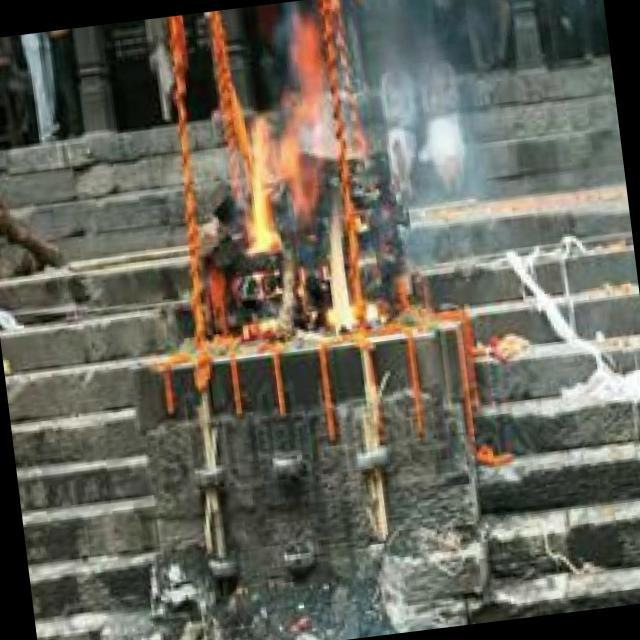Fire: (227, 19, 367, 341)
